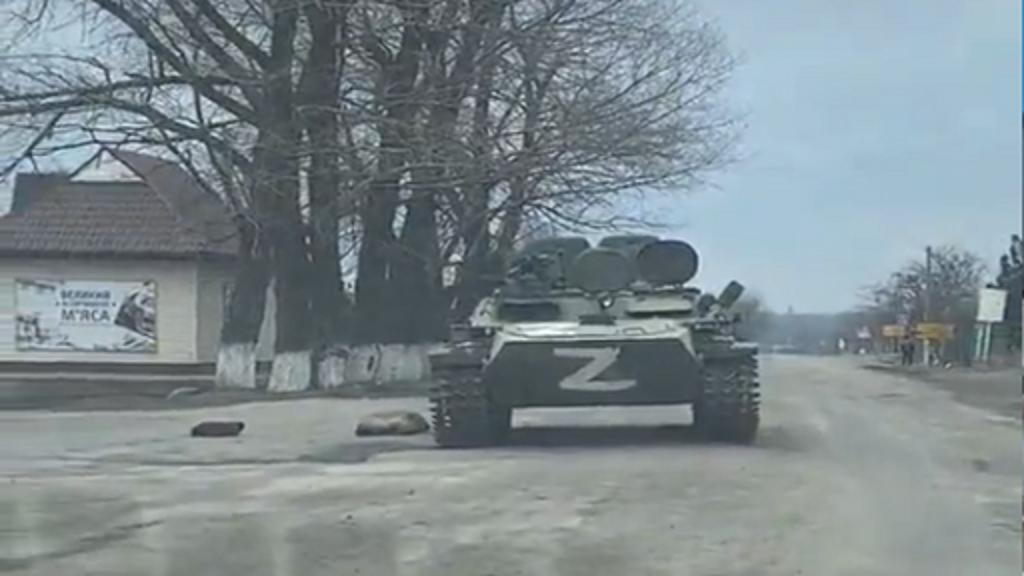APC-IFV: (408, 222, 770, 470)
